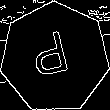P_S: (31, 29, 78, 86)
